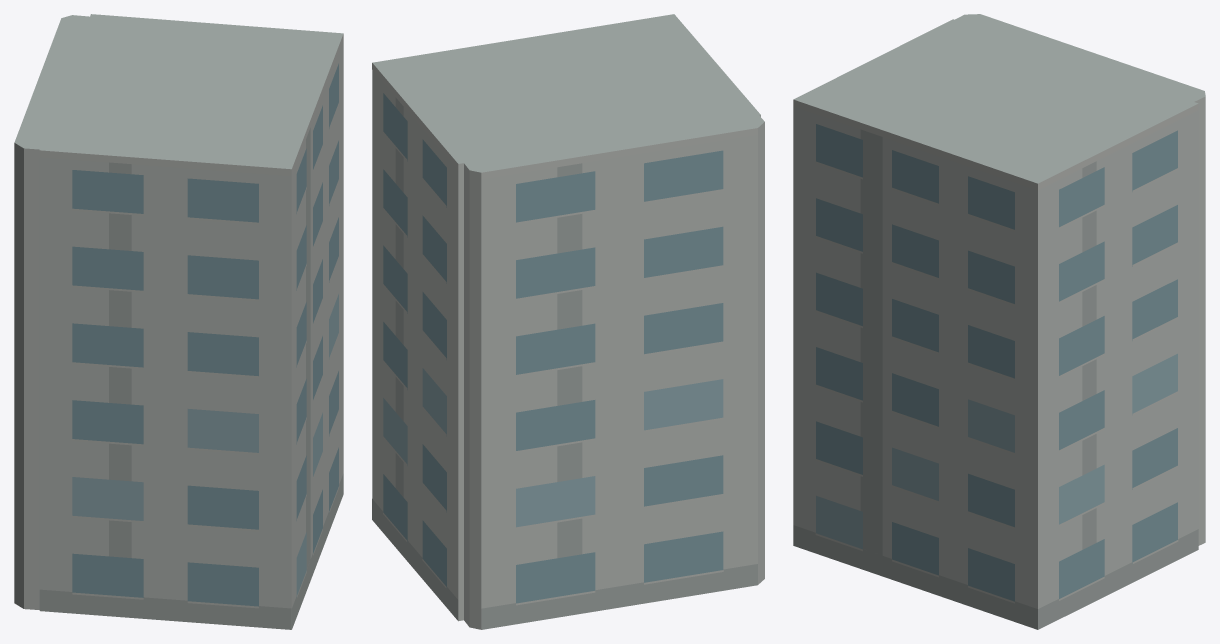
The model's file is survey-upis-33038121.glb.
3 views of the same model, side by side, from view 1: azimuth 30°, elevation 25°; view 2: azimuth 150°, elevation 25°; view 3: azimuth 270°, elevation 25° (orthographic). The views are drawn at different scales.
Parts seen in each view (by area): view 1: survey-upis-33038121.tmp; view 2: survey-upis-33038121.tmp; view 3: survey-upis-33038121.tmp.
Boxes of the visible parts, x1,y1,x2,y2 form: survey-upis-33038121.tmp: [14, 14, 343, 629]; survey-upis-33038121.tmp: [372, 14, 764, 629]; survey-upis-33038121.tmp: [793, 14, 1205, 629].
Size of the model in its own units: 13.22 by 16.2 by 13.57.
